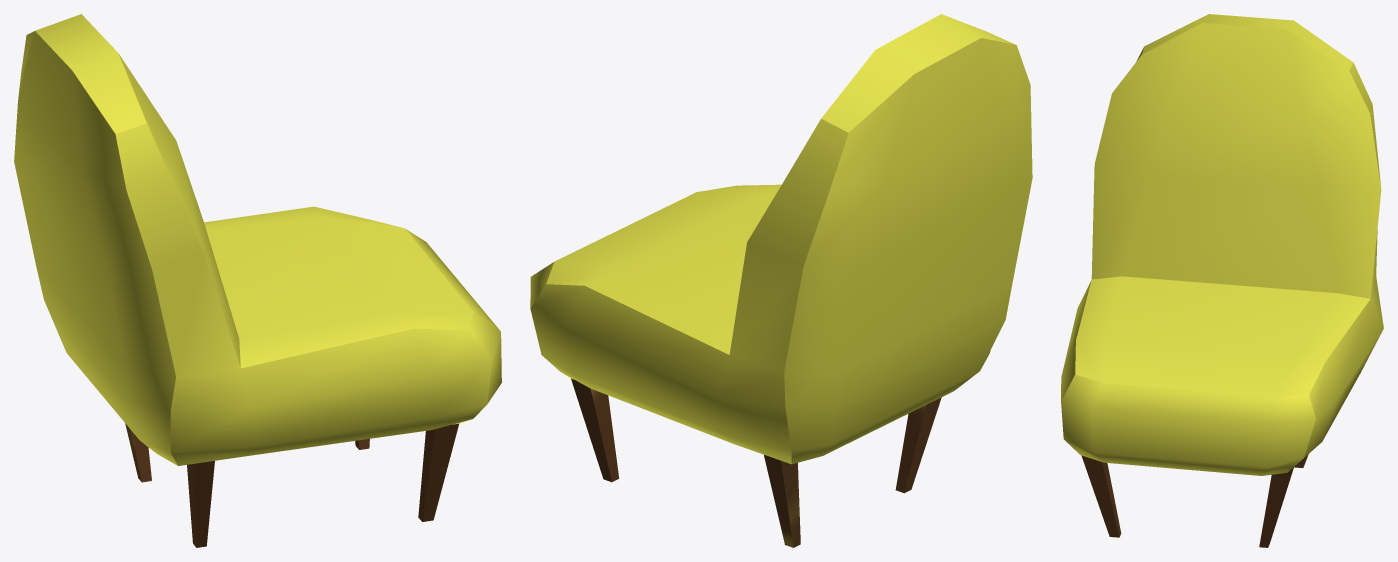
Rendered from chair_yellow.fbx.
The picture shows the model from 3 angles, left to right: view 1: azimuth 30°, elevation 25°; view 2: azimuth 150°, elevation 25°; view 3: azimuth 270°, elevation 25°; orthographic projection. The views are drawn at different scales.
Parts seen in each view (by area): view 1: chairYellow; view 2: chairYellow; view 3: chairYellow.
Part boxes in pixels (left/top/right/bottom): chairYellow: left=14, top=14, right=501, bottom=547; chairYellow: left=530, top=14, right=1032, bottom=547; chairYellow: left=1061, top=14, right=1383, bottom=547.
Size of the model in its own units: 4.47 by 5.21 by 3.73.
1 material, 1 textured.
